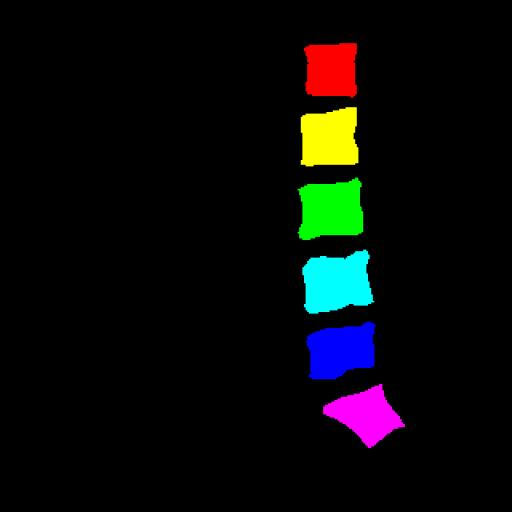L1: (304, 43, 357, 96)
L2: (301, 107, 358, 166)
L3: (298, 178, 363, 240)
L4: (302, 250, 374, 314)
L5: (307, 322, 374, 379)
S1: (323, 384, 405, 448)
